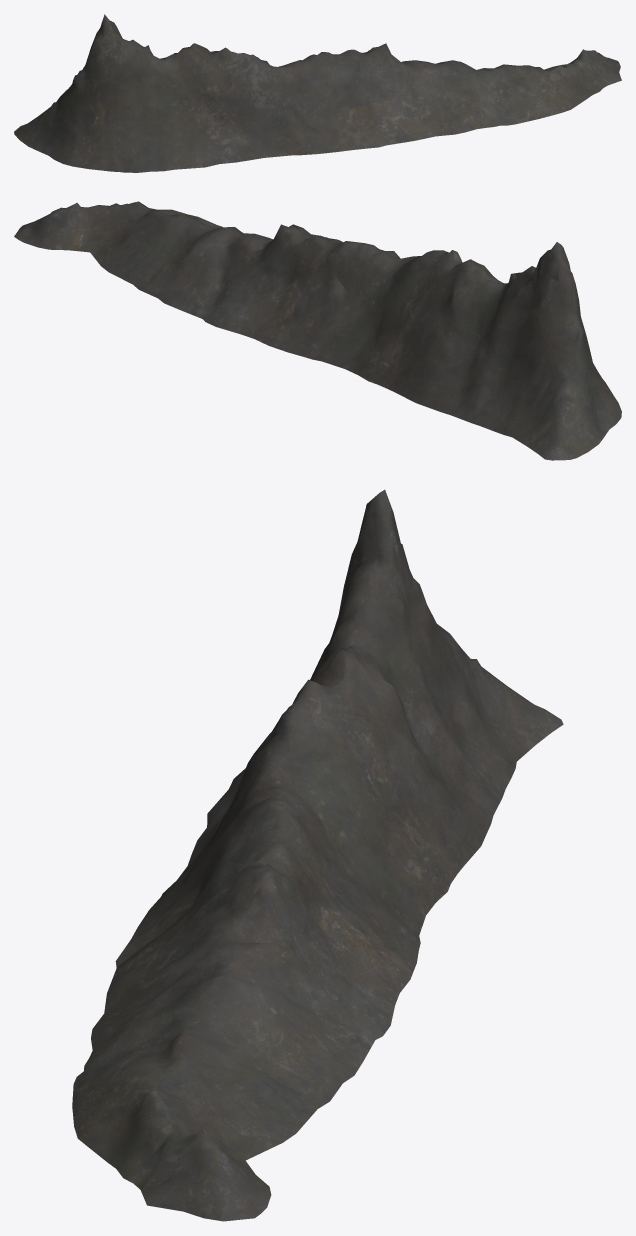
Rendered from Cliff_W3_CraterRing_B_0.fbx.
3 views of the same model, one above another, from view 1: azimuth 30°, elevation 25°; view 2: azimuth 150°, elevation 25°; view 3: azimuth 270°, elevation 25° (orthographic). The views are drawn at different scales.
Parts seen in each view (by area): view 1: CraterRing_B.mo; view 2: CraterRing_B.mo; view 3: CraterRing_B.mo.
Boxes of the visible parts, bbox=[...] form: CraterRing_B.mo: bbox=[14, 14, 621, 172]; CraterRing_B.mo: bbox=[14, 201, 621, 460]; CraterRing_B.mo: bbox=[72, 489, 563, 1221].
Size of the model in its own units: 11505 by 2795 by 4626.
1 material, 1 textured.
